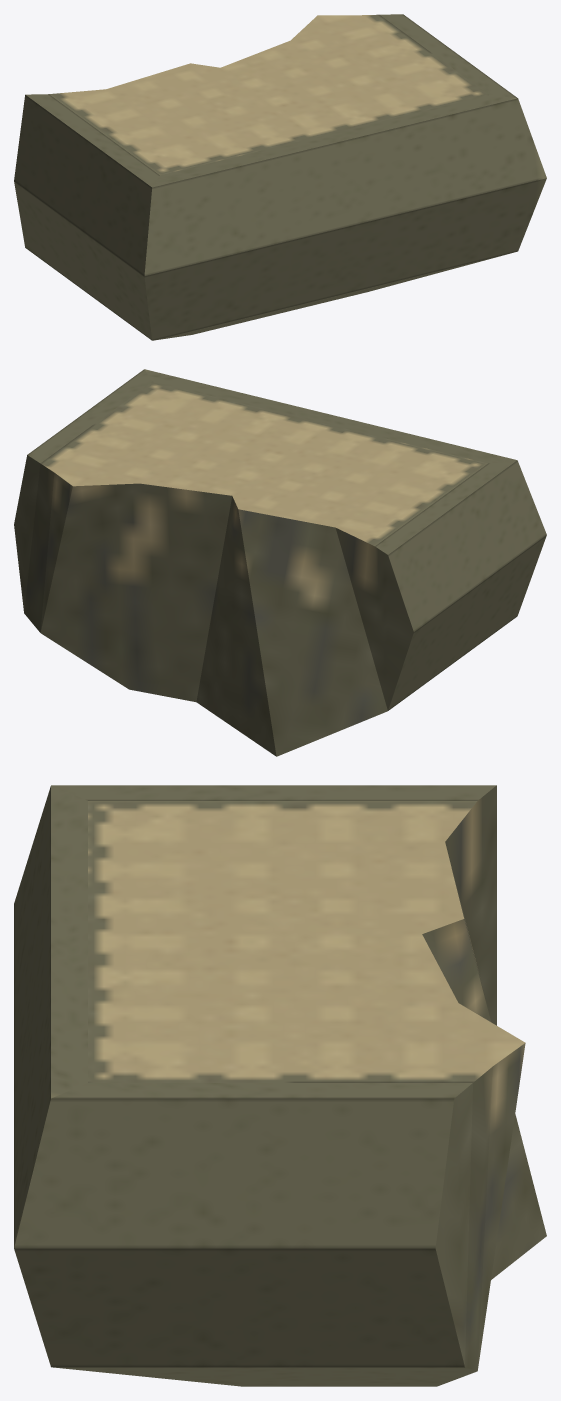
The model's file is Platform_11_Broken_0.fbx.
3 renders of one model, top to bottom at view 1: azimuth 30°, elevation 25°; view 2: azimuth 150°, elevation 25°; view 3: azimuth 270°, elevation 25°, orthographic. The views are drawn at different scales.
Visible parts, largest first — view 1: Platform_11_Broken_0; view 2: Platform_11_Broken_0; view 3: Platform_11_Broken_0.
Boxes of the visible parts, x1,y1,x2,y2 form: Platform_11_Broken_0: (14, 14, 546, 340); Platform_11_Broken_0: (14, 369, 546, 756); Platform_11_Broken_0: (14, 785, 546, 1386).
Bounding box in the file's own units: 220 × 110 × 144.
